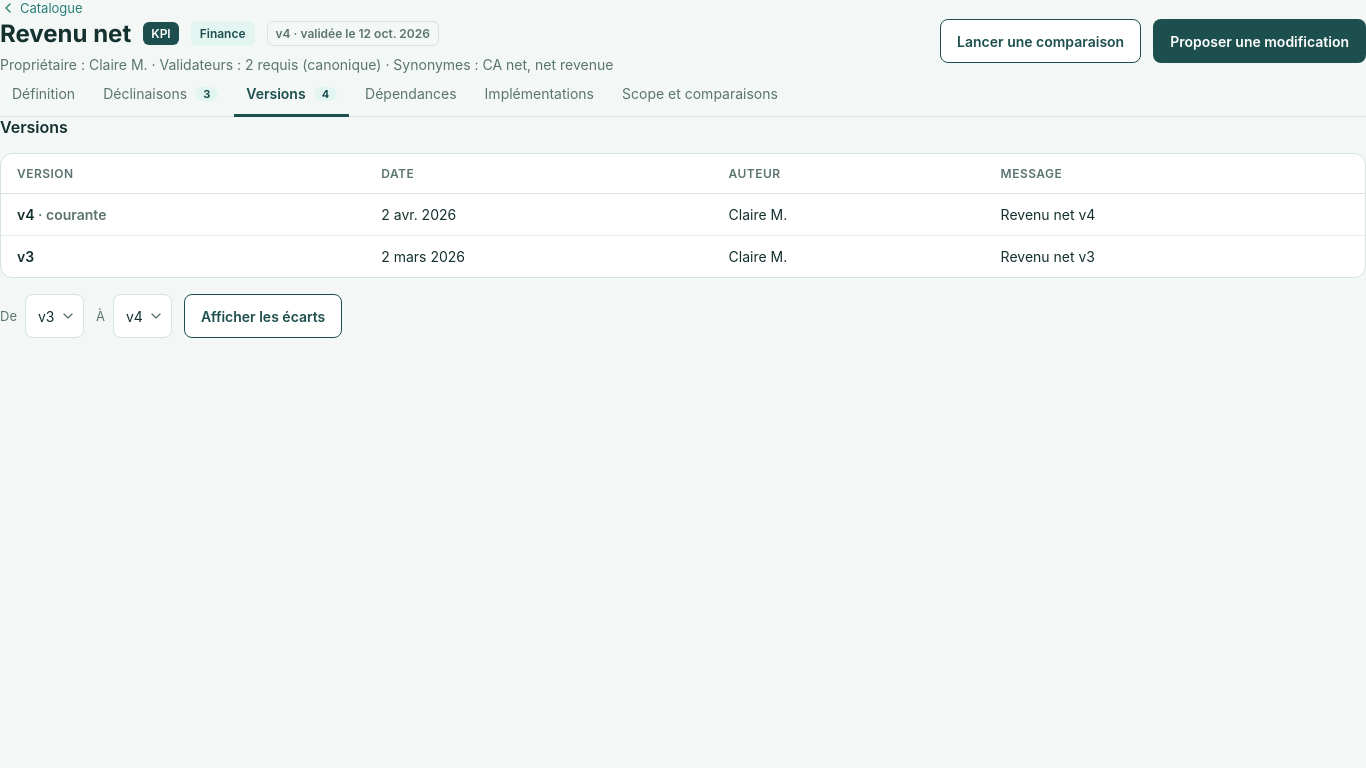
Scenario: fiche › versions : deux versions choisies, puis la liste des écarts et les graphes surlignés (critère 3)
The image size is (1366, 768).
Expected: the column heading "v4 · courante" is shown, 1,194 -> 365,236
Expected: the dropdown labelled "De" shows "v3", 25,294 -> 84,338
What coordinates should you click on to do the following:
click the button "Afficher les écarts"
I would click on:
 (263, 316)
Its box is 184,294 -> 342,338.
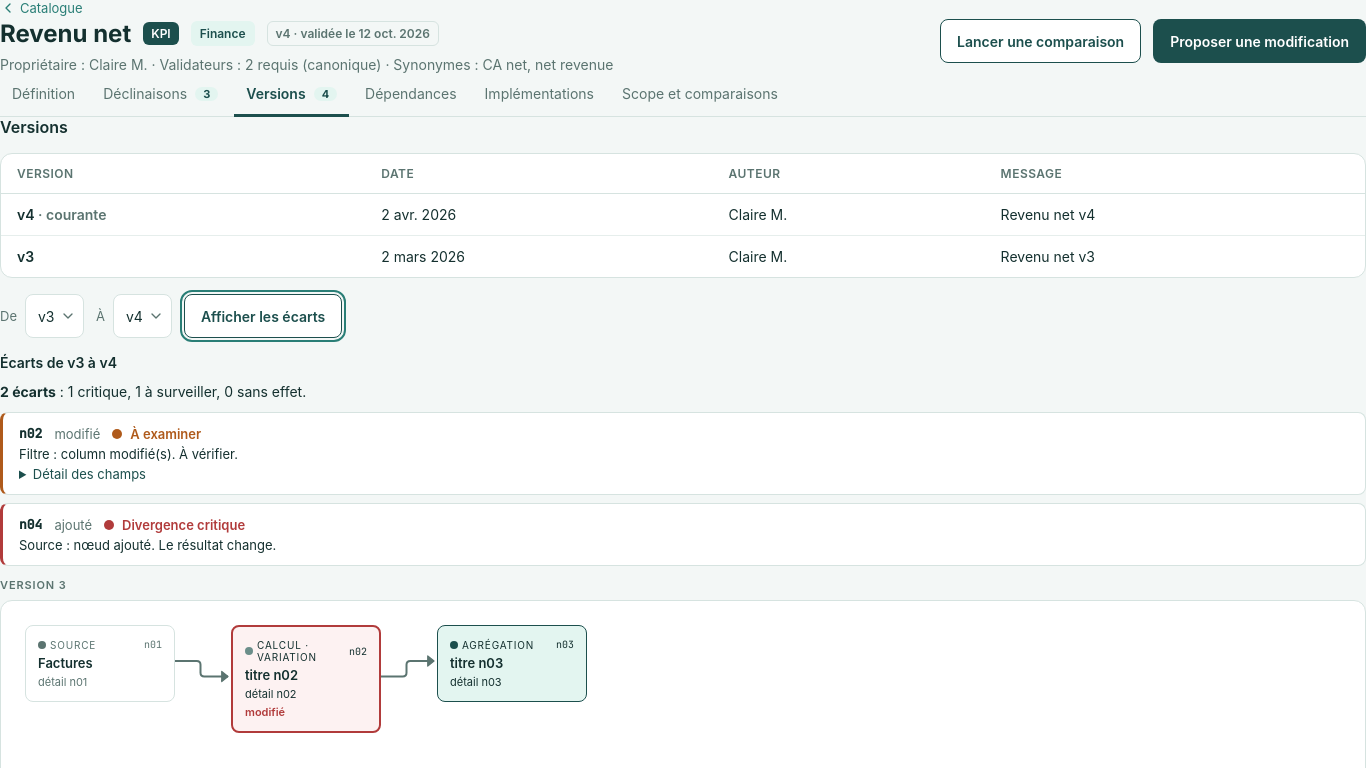
Result: the text "2 écarts" is shown at 0,383 -> 56,400
Result: the list item that starts with "n02" shows "À examiner" at 130,426 -> 201,442
Result: the list item that starts with "n04" shows "Divergence critique" at 122,516 -> 245,532
